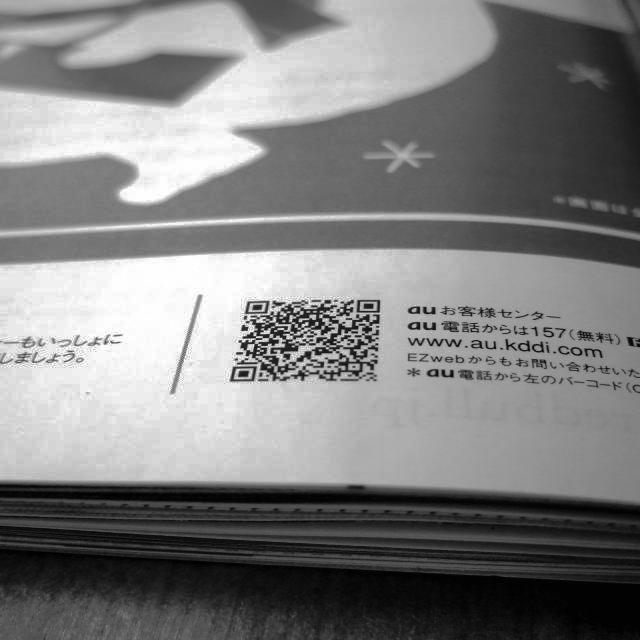qr_code: (230, 300, 379, 381)
